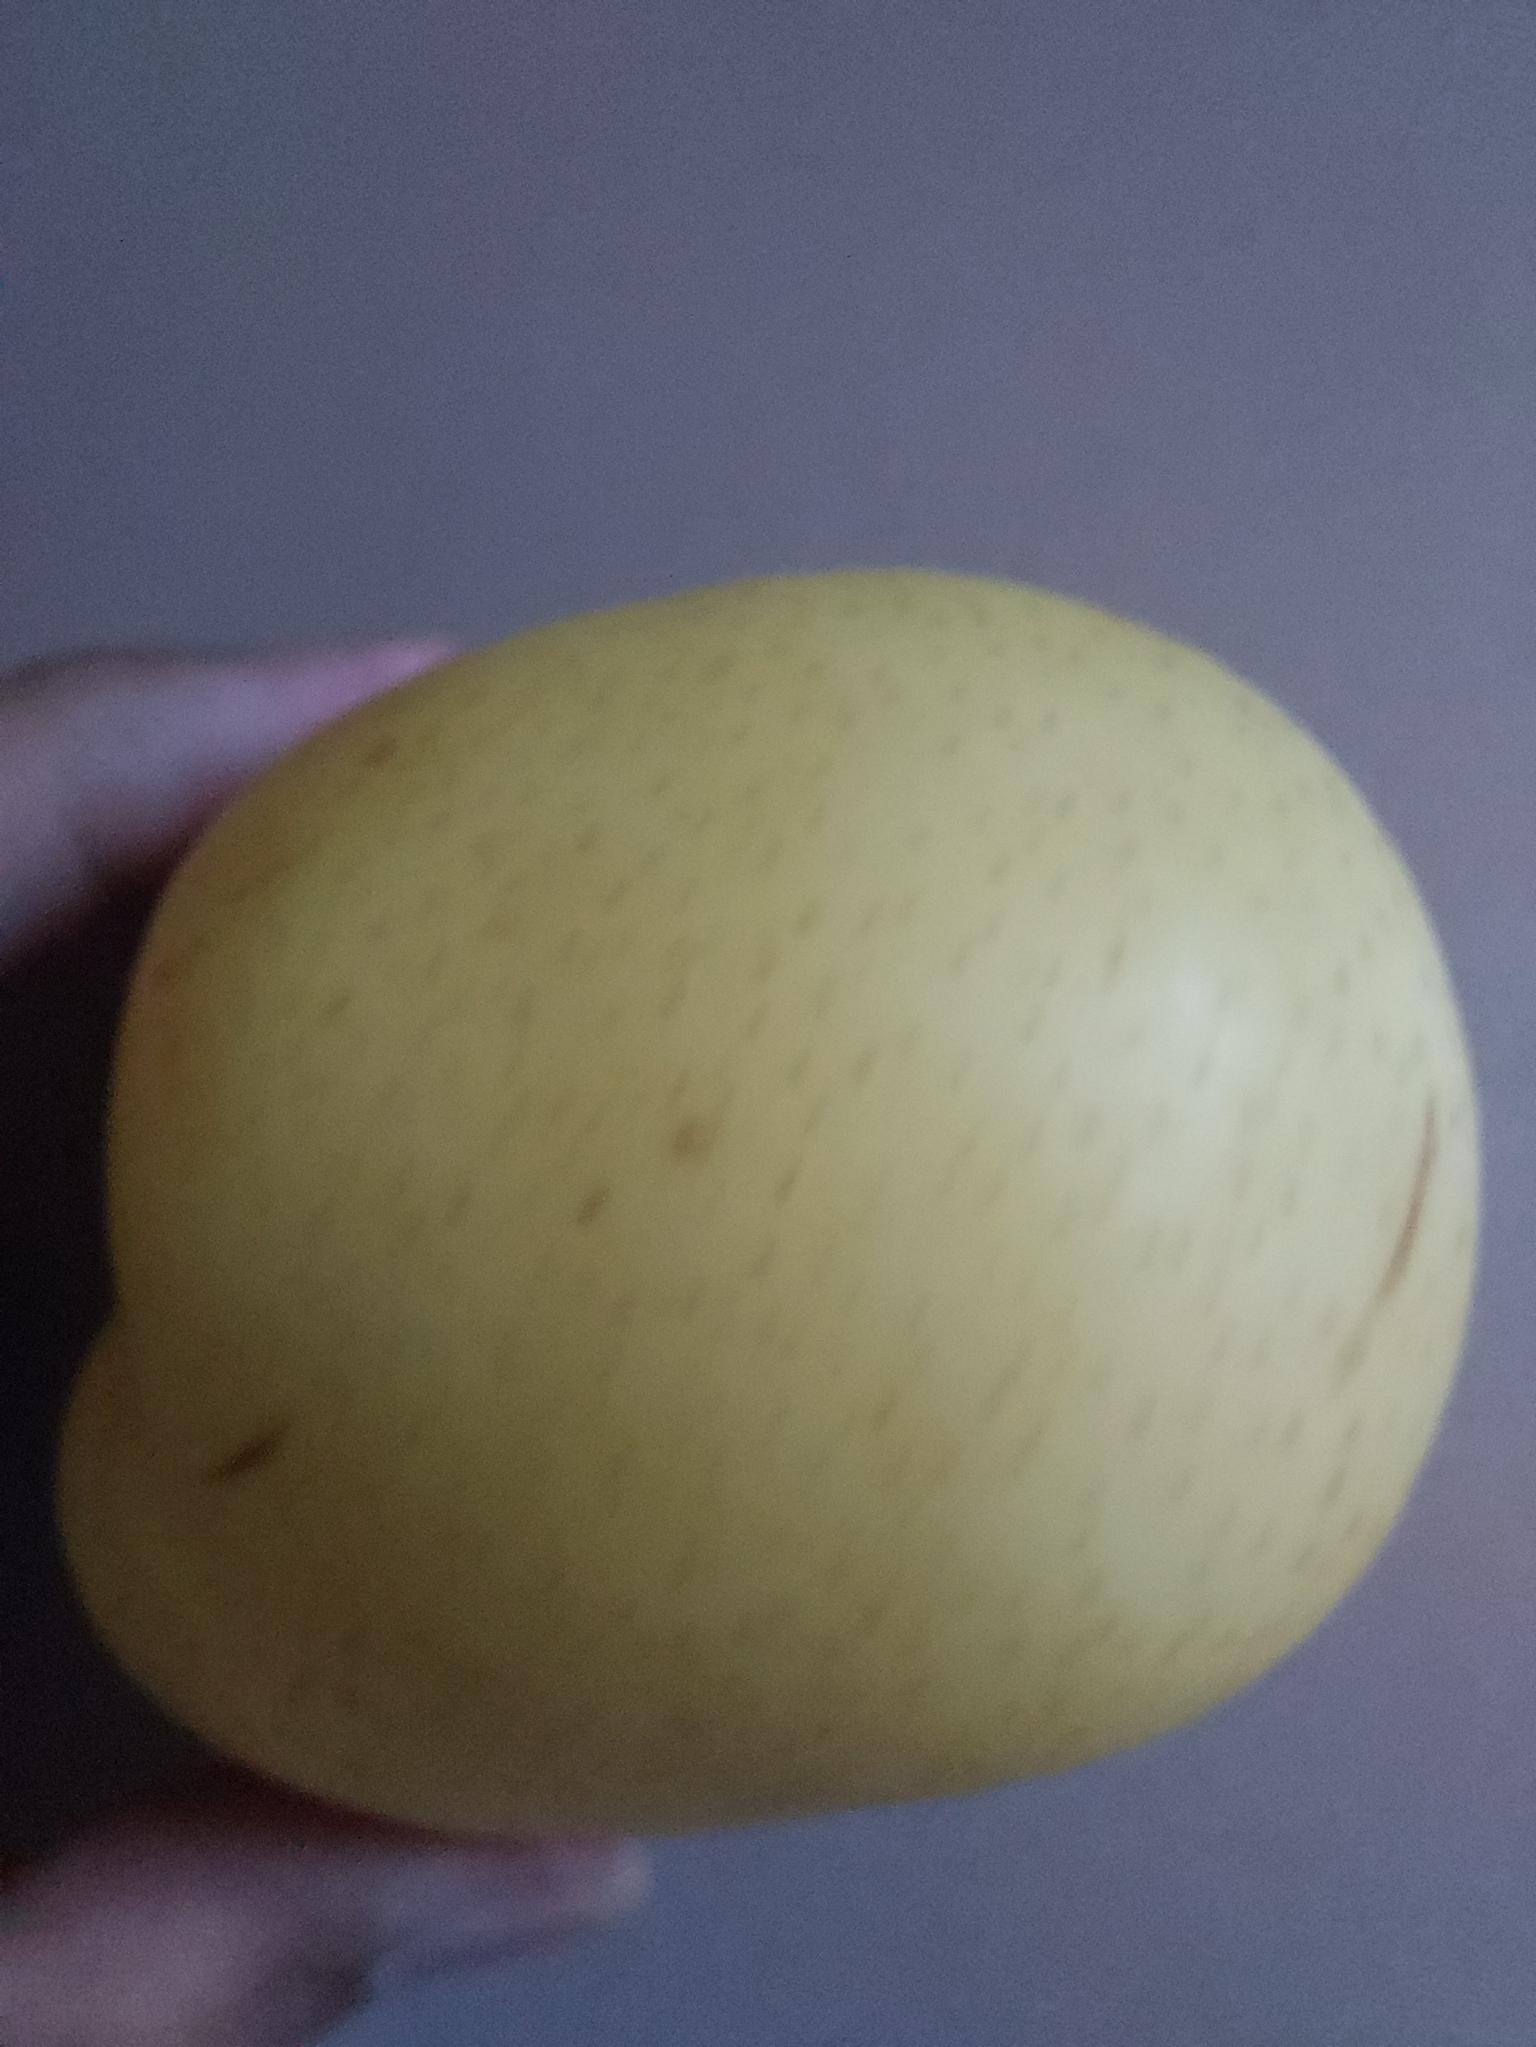Good Pear: (40, 558, 1486, 1857)
